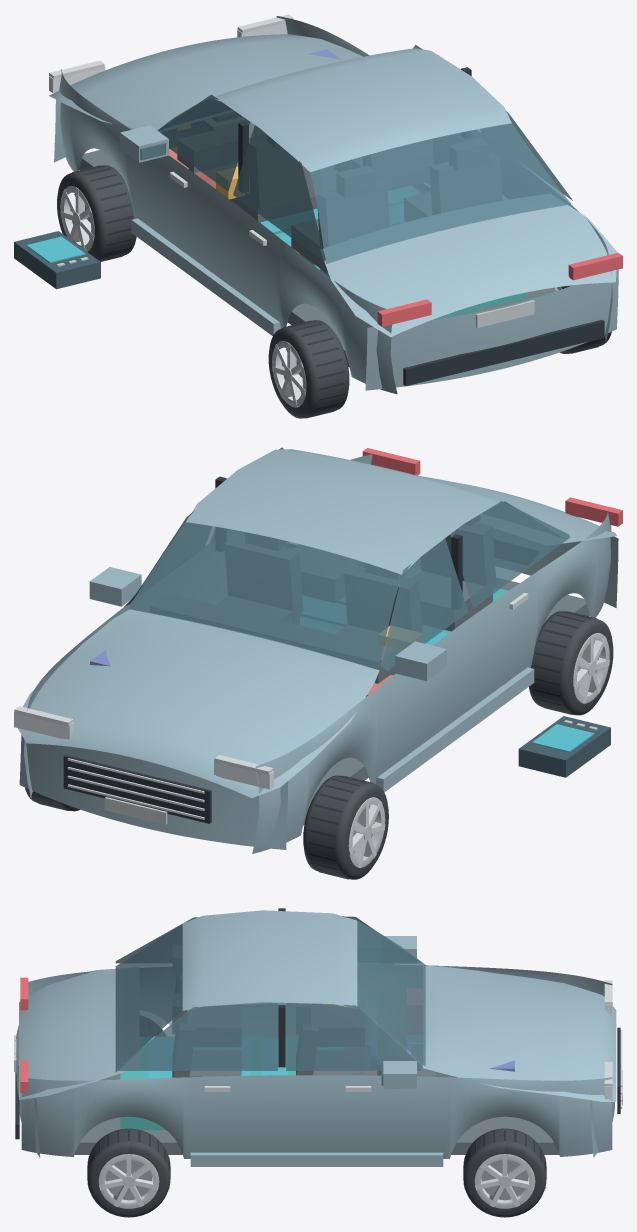
Rendered from training_vehicle.glb.
The picture shows the model from 3 angles, top to bottom: view 1: azimuth 30°, elevation 25°; view 2: azimuth 150°, elevation 25°; view 3: azimuth 270°, elevation 25°; orthographic projection. The views are drawn at different scales.
Parts seen in each view (by area): view 1: body_tail, body_side_-1, glass_rear, body_roof, body_hood, body_rear, glass_rear_-1, glass_front_-1, wheel_rl_tyre, wheel_fl_tyre, rear_fascia, seat_back_-0.43_-0.12 (+28 smaller); view 2: body_hood, body_side_-1, glass_front, body_roof, body_front, glass_rear_-1, glass_front_-1, dashboard, wheel_fl_tyre, wheel_rl_tyre, seat_back_0.43_-0.12, body_side_1 (+27 smaller); view 3: body_side_1, body_hood, body_roof, body_tail, glass_rear_1, body_side_-1, glass_front_1, glass_front, glass_rear, body_sill_1, wheel_rr_tyre, chassis (+21 smaller).
Part boxes in pixels (<box>): body_tail: <box>321,194,617,337</box>; body_side_-1: <box>59,69,397,394</box>; glass_rear: <box>310,123,571,264</box>; body_roof: <box>213,48,511,172</box>; body_hood: <box>49,34,362,131</box>; body_rear: <box>365,269,618,390</box>; glass_rear_-1: <box>233,125,325,261</box>; glass_front_-1: <box>158,94,249,191</box>; wheel_rl_tyre: <box>268,320,349,418</box>; wheel_fl_tyre: <box>57,165,136,261</box>; rear_fascia: <box>403,319,604,385</box>; seat_back_-0.43_-0.12: <box>249,138,320,209</box>; body_hood: <box>17,609,379,798</box>; body_side_-1: <box>252,512,611,853</box>; glass_front: <box>128,522,401,669</box>; body_roof: <box>186,449,504,574</box>; body_front: <box>19,735,288,849</box>; glass_rear_-1: <box>450,501,569,608</box>; glass_front_-1: <box>380,538,468,671</box>; dashboard: <box>151,594,395,683</box>; wheel_fl_tyre: <box>303,775,388,879</box>; wheel_rl_tyre: <box>529,611,613,715</box>; seat_back_0.43_-0.12: <box>225,535,302,619</box>; body_side_1: <box>24,454,372,799</box>; body_side_1: <box>21,1075,612,1158</box>; body_hood: <box>423,966,616,1101</box>; body_roof: <box>182,910,357,1010</box>; body_tail: <box>19,968,138,1099</box>; glass_rear_1: <box>115,1003,277,1070</box>; body_side_-1: <box>28,965,612,1042</box>; glass_front_1: <box>286,1003,421,1070</box>; glass_front: <box>357,921,425,1066</box>; glass_rear: <box>115,924,182,1072</box>; body_sill_1: <box>190,1152,443,1166</box>; wheel_rr_tyre: <box>87,1128,170,1217</box>; chassis: <box>74,1048,559,1154</box>.
Bounding box in the file's own units: 3.33 × 1.66 × 4.54.
